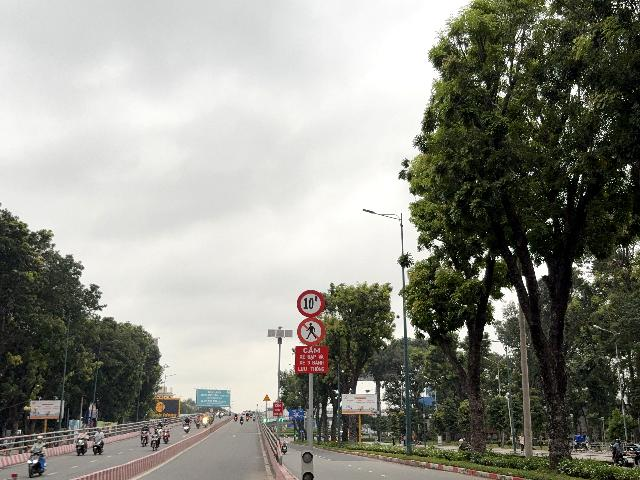cam-nguoi-di-bo: (297, 317, 325, 345)
han-che-trong-luong-xe: (297, 289, 325, 318)
